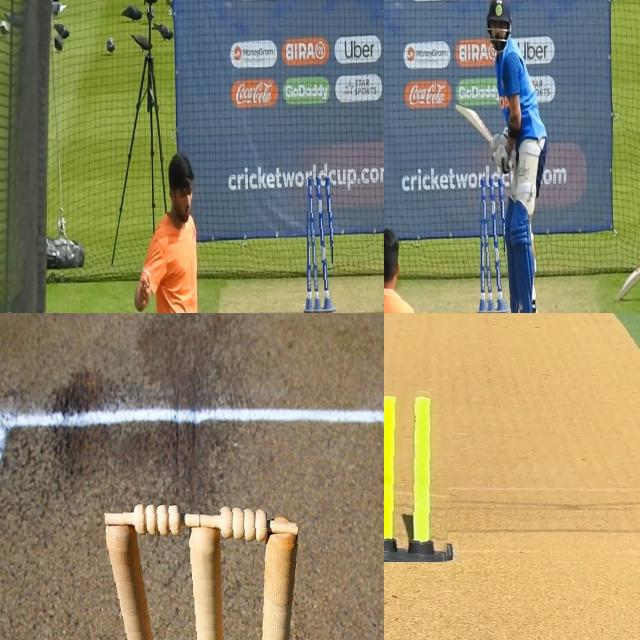Stumps: (100, 506, 299, 640), (384, 384, 453, 561), (304, 169, 333, 313), (478, 175, 505, 313)
